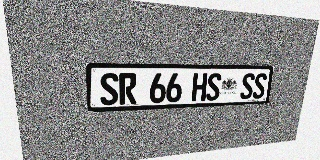6: (149, 73, 166, 103), (166, 73, 183, 103)
H: (191, 73, 208, 101)
R: (119, 73, 137, 105)
S: (99, 73, 118, 105), (206, 73, 222, 101), (240, 73, 255, 99), (252, 73, 267, 99)
